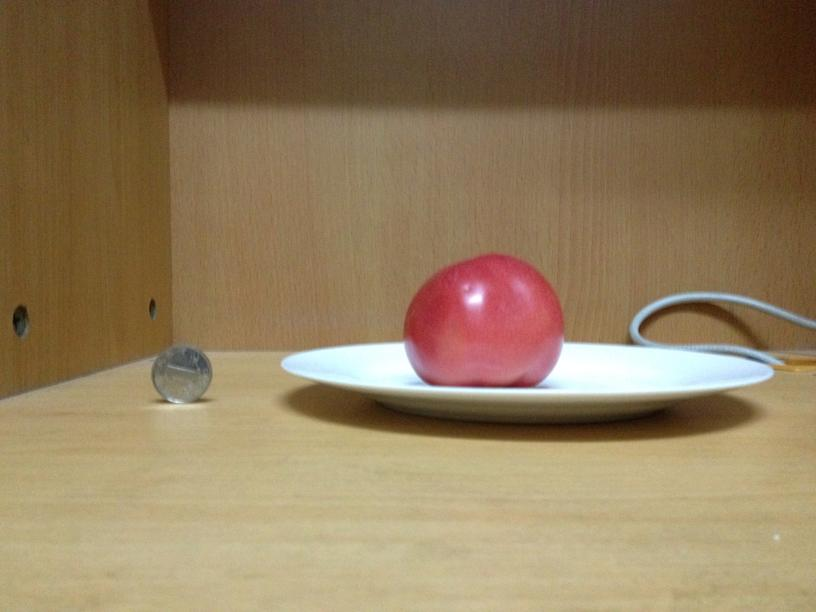coin: (148, 346, 214, 404)
tomato: (402, 250, 563, 387)
